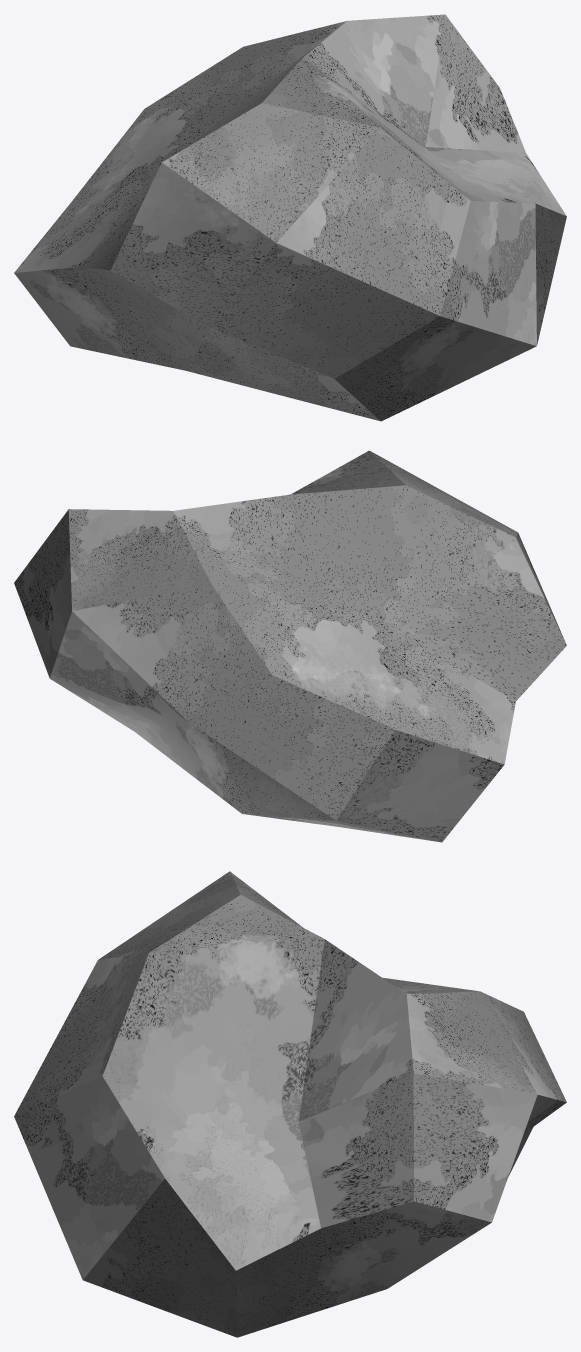
The model's file is filler rock 3.fbx.
3 views of the same model, one above another, from view 1: azimuth 30°, elevation 25°; view 2: azimuth 150°, elevation 25°; view 3: azimuth 270°, elevation 25° (orthographic). The views are drawn at different scales.
Parts seen in each view (by area): view 1: fillerrock3; view 2: fillerrock3; view 3: fillerrock3.
Boxes of the visible parts, x1,y1,x2,y2 form: fillerrock3: (14, 14, 566, 421); fillerrock3: (14, 450, 566, 842); fillerrock3: (14, 871, 566, 1337).
Bounding box in the file's own units: 108 × 67.59 × 94.16.
